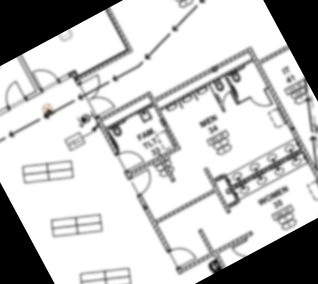door: (29, 62, 61, 95), (126, 166, 159, 198), (113, 142, 146, 173), (166, 239, 199, 270), (0, 78, 29, 112), (246, 85, 276, 115), (217, 89, 239, 112)
double door: (78, 72, 119, 119)
wall: (244, 44, 318, 210), (153, 44, 256, 104), (174, 226, 258, 277), (117, 134, 197, 186), (71, 45, 137, 85), (92, 87, 155, 128), (154, 186, 217, 226), (133, 192, 173, 254), (104, 7, 138, 58), (200, 165, 233, 216), (93, 115, 124, 159), (159, 116, 186, 157), (255, 42, 291, 67), (144, 87, 166, 122), (195, 226, 216, 255), (212, 250, 229, 270)
